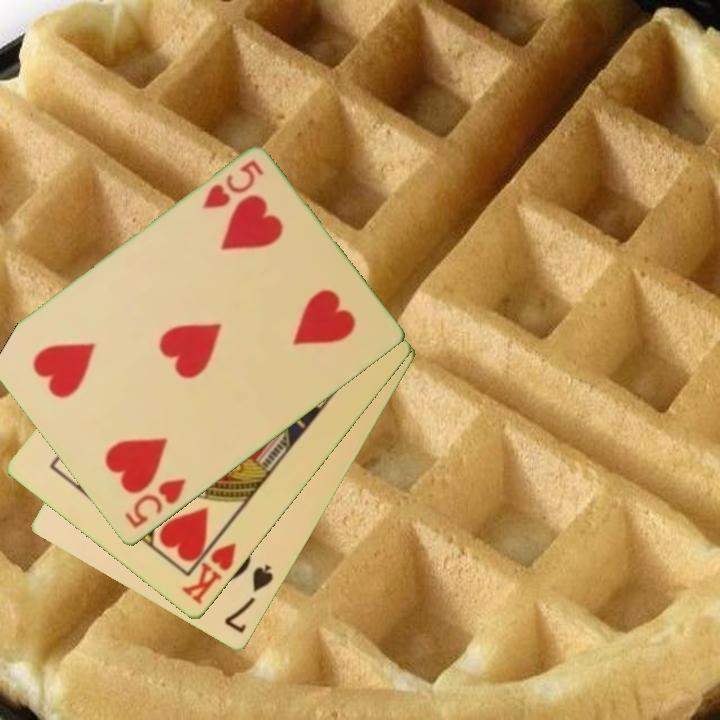5h: (120, 475, 189, 532), (199, 156, 267, 213)
7s: (221, 561, 277, 637)
Kh: (178, 527, 240, 608)
